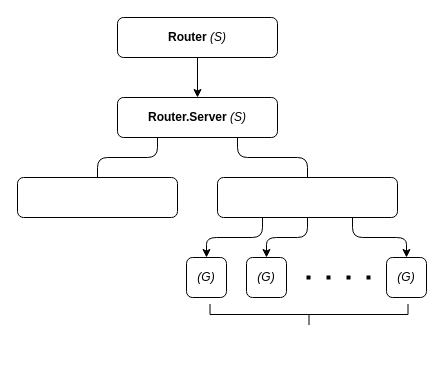
The diagram is 447 pixels wide and 365 high, and some of its shapes have lost their labels. The centre of each missing label's shape, as x and y in pixels:
"Router.Server.Listener (G)" goes at pixel 97 197.
"Router.Server.Processor (G)" goes at pixel 307 197.
"Router.Server.Worker Pool" goes at pixel 308 314.
